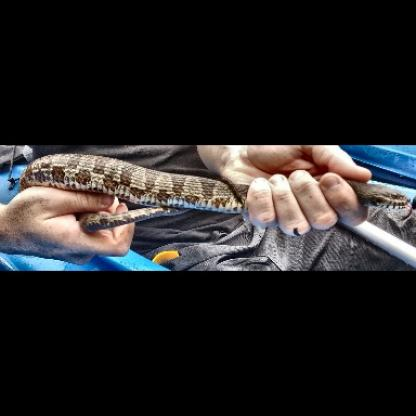Snake: (17, 150, 416, 217)
